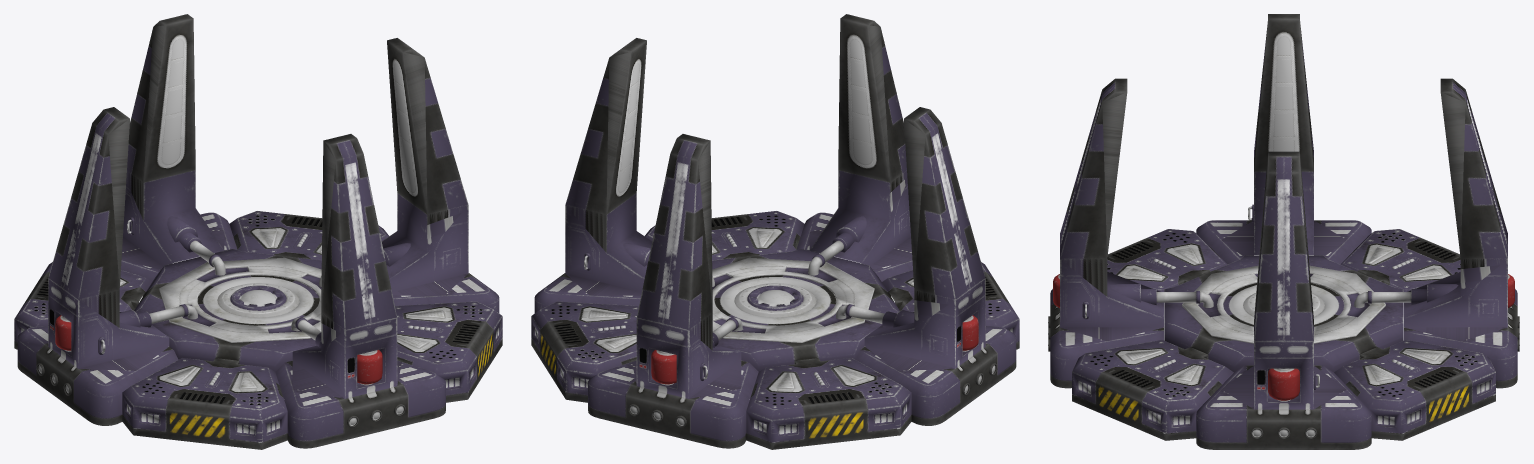
The model's file is 星际门.fbx.
3 renders of one model, left to right at view 1: azimuth 30°, elevation 25°; view 2: azimuth 150°, elevation 25°; view 3: azimuth 270°, elevation 25°, orthographic.
Parts seen in each view (by area): view 1: Teleport; view 2: Teleport; view 3: Teleport.
Boxes of the visible parts, left/top/right/bottom form: Teleport: left=14, top=14, right=502, bottom=449; Teleport: left=531, top=14, right=1019, bottom=449; Teleport: left=1048, top=14, right=1519, bottom=449.
Size of the model in its own units: 403 by 250 by 403.
1 material, 1 textured.
